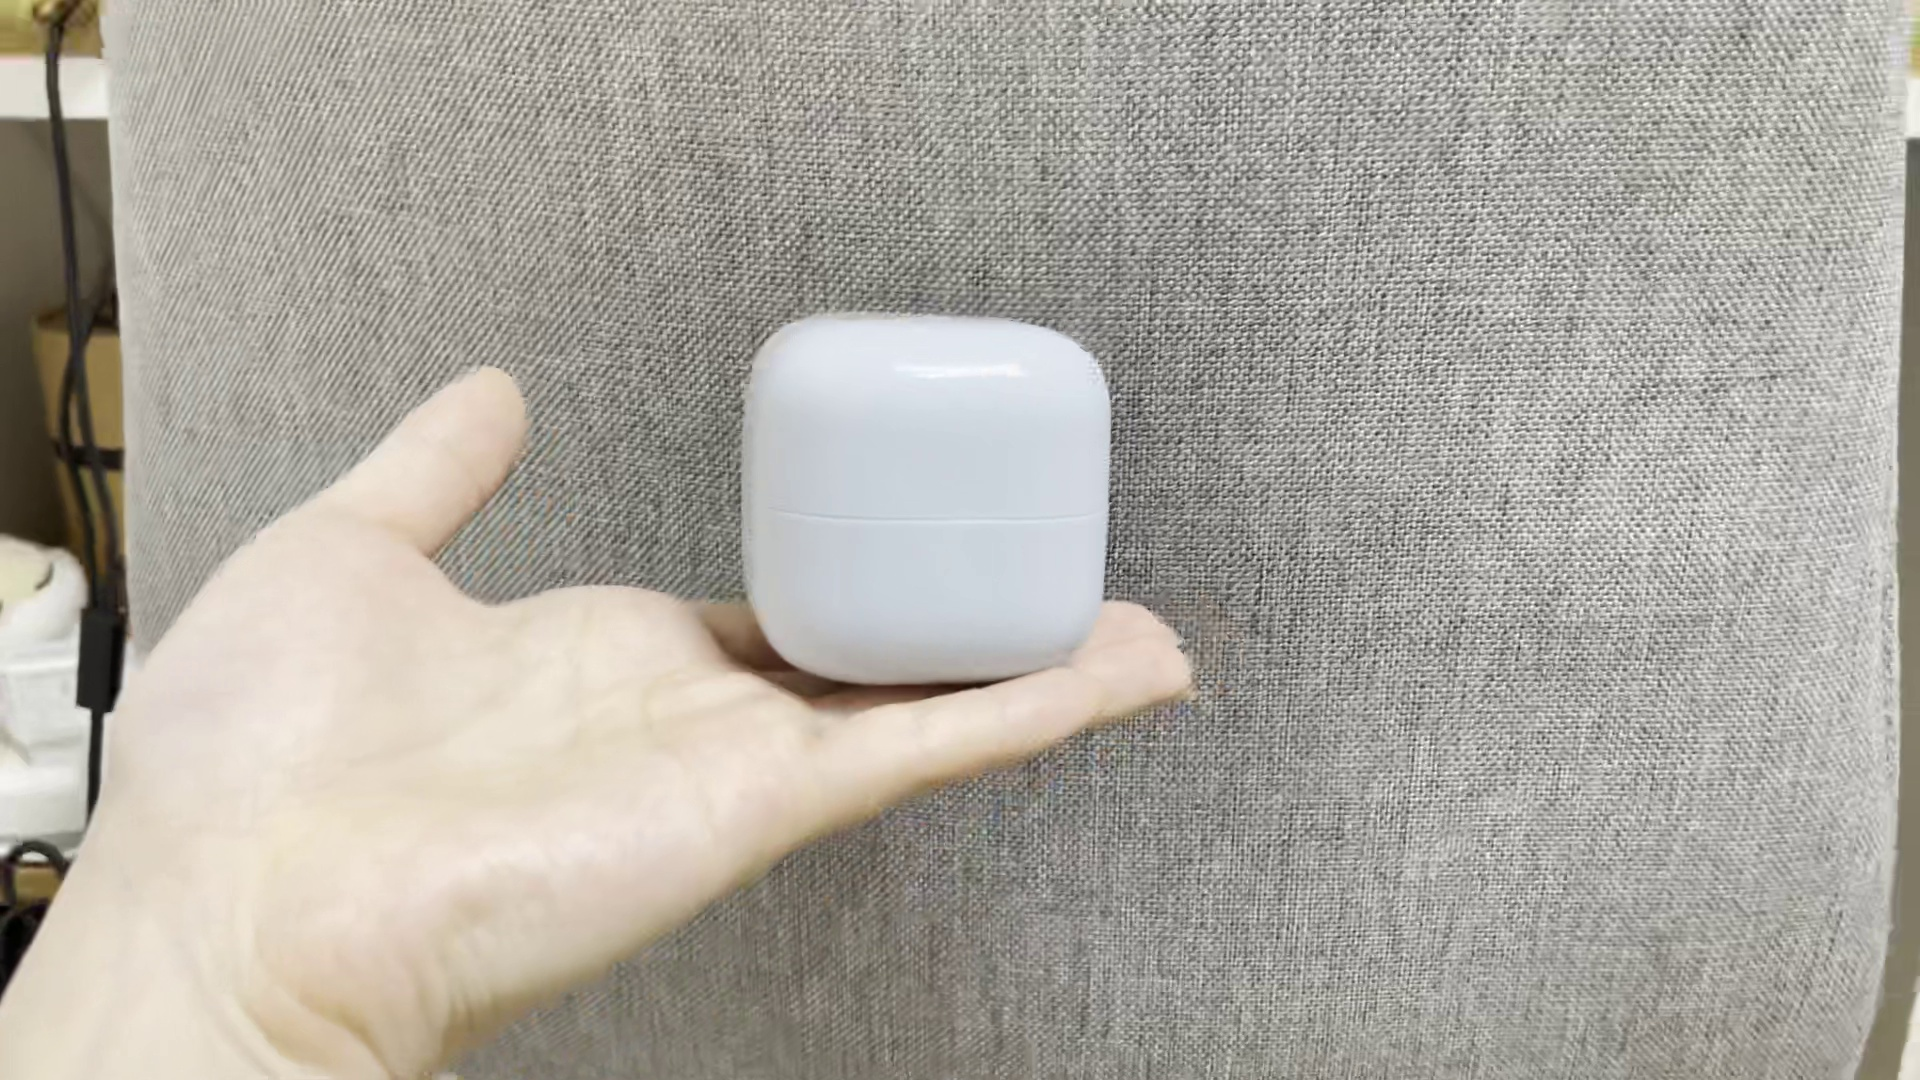cream: (744, 306, 1108, 690)
